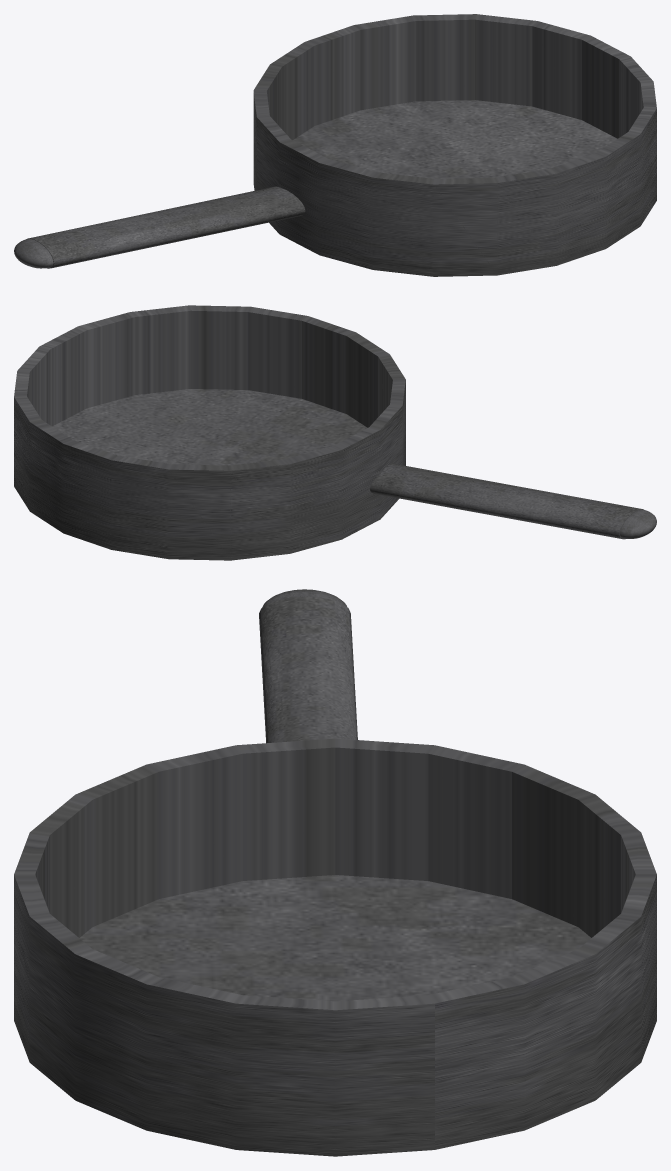
Rendered from sarten.obj.
The picture shows the model from 3 angles, top to bottom: view 1: azimuth 30°, elevation 25°; view 2: azimuth 150°, elevation 25°; view 3: azimuth 270°, elevation 25°; orthographic projection. The views are drawn at different scales.
Visible parts, largest first — view 1: pSphere3; view 2: pSphere3; view 3: pSphere3.
Part boxes in pixels (x1,y1,x2,y2): pSphere3: [14, 14, 656, 276]; pSphere3: [14, 305, 656, 560]; pSphere3: [14, 589, 656, 1156].
Bounding box in the file's own units: 3.49 × 0.4951 × 1.97.
1 material, 1 textured.
